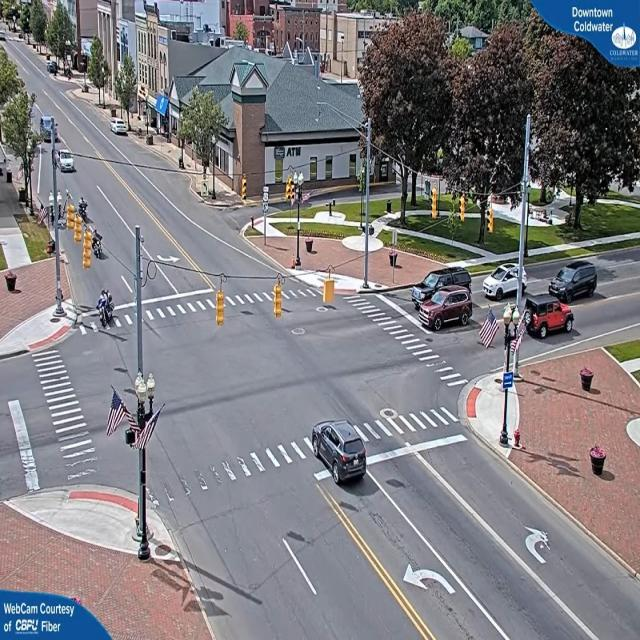car: (311, 421, 368, 488), (413, 288, 473, 330), (524, 292, 575, 340), (551, 262, 600, 304), (414, 264, 470, 294), (484, 265, 524, 300), (57, 151, 75, 173), (111, 121, 131, 138)
motorbike: (97, 284, 115, 332)
